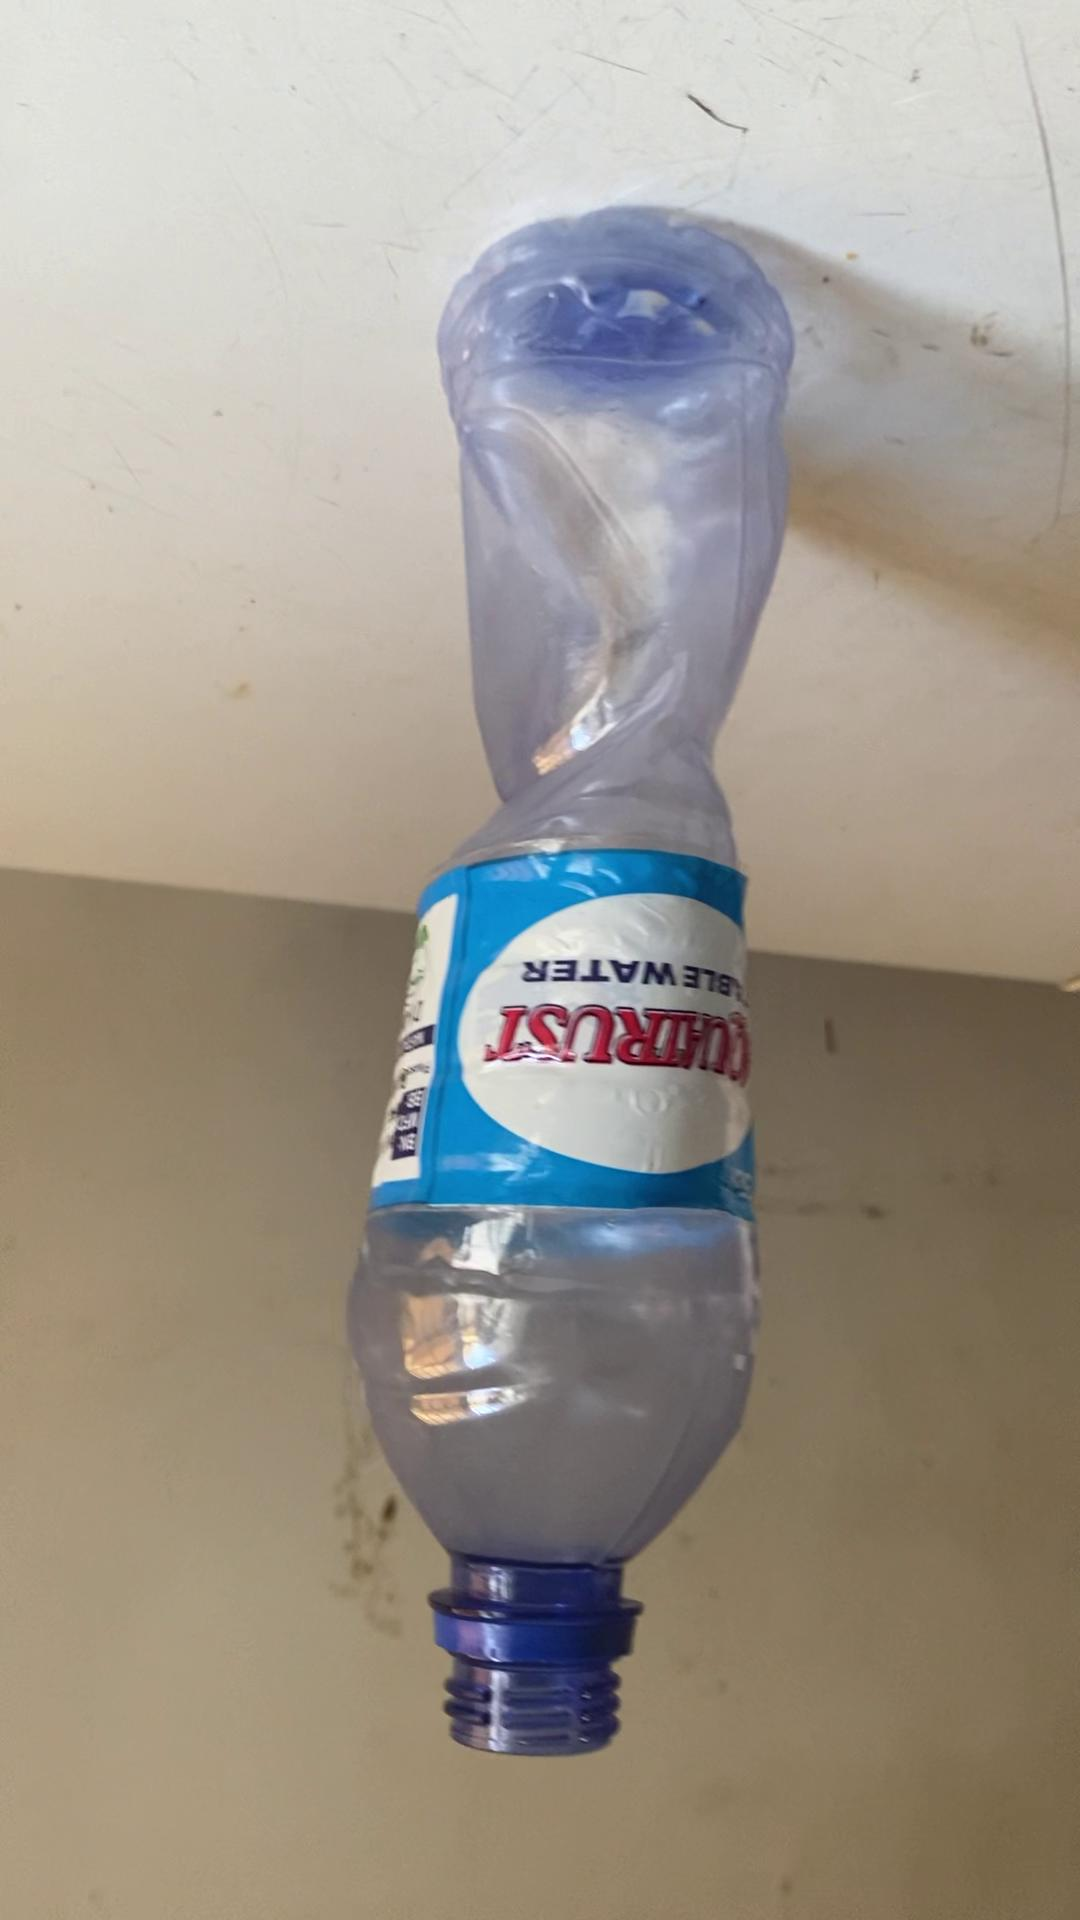crumbled: (327, 199, 810, 1775)
label: (402, 858, 760, 1220)
no-cap: (434, 1609, 640, 1762)
